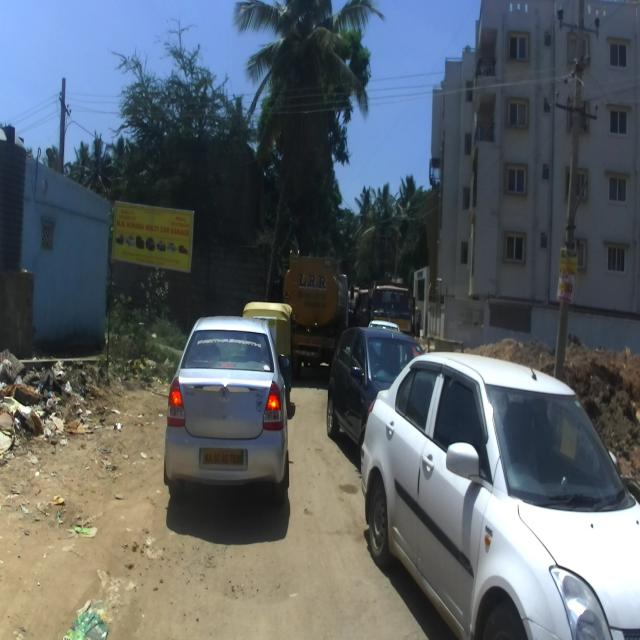autorickshaw: (242, 300, 295, 418)
car: (360, 352, 639, 637), (162, 315, 290, 506)
